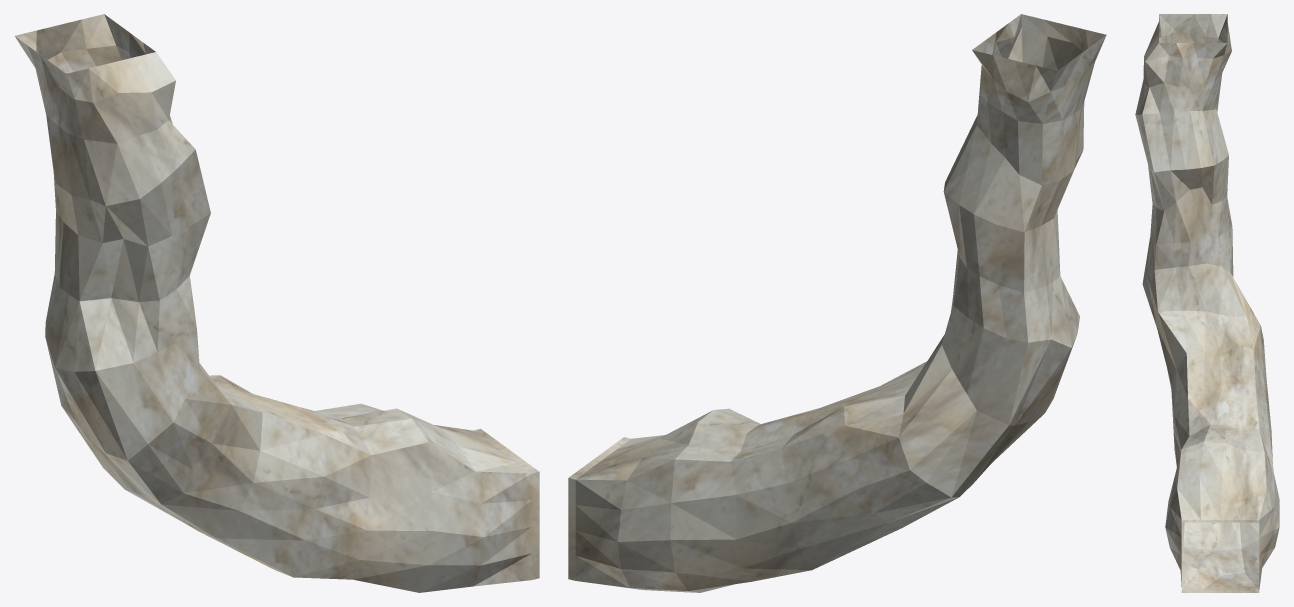
Rendered from entrance_tunnel.dae.
3 renders of one model, left to right at view 1: azimuth 30°, elevation 25°; view 2: azimuth 150°, elevation 25°; view 3: azimuth 270°, elevation 25°, orthographic. The views are drawn at different scales.
Visible parts, largest first — view 1: entrance; view 2: entrance; view 3: entrance.
Boxes of the visible parts, bbox=[...] form: entrance: bbox=[15, 14, 539, 592]; entrance: bbox=[568, 14, 1106, 592]; entrance: bbox=[1135, 14, 1279, 592].
Bounding box in the file's own units: 385 × 149 × 483.
1 material, 1 textured.
